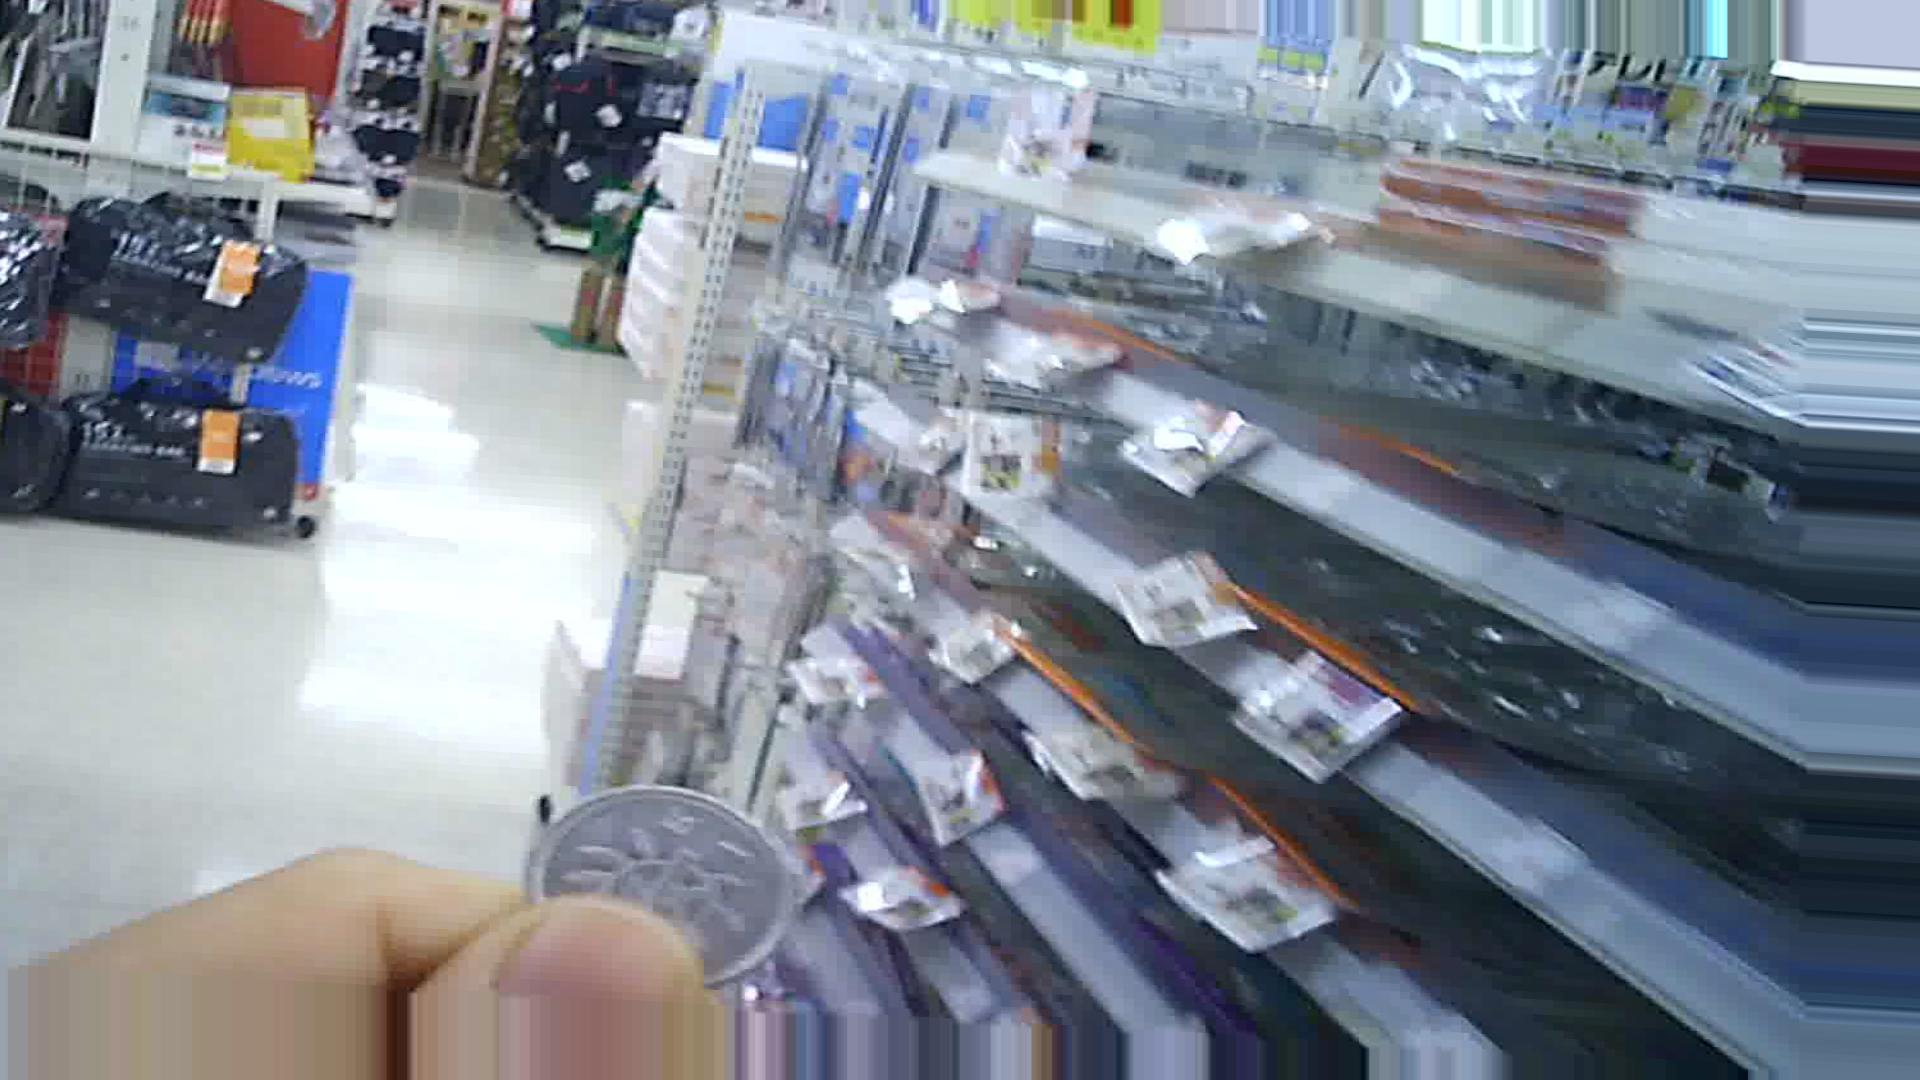1 Yen: (525, 779, 793, 989)
